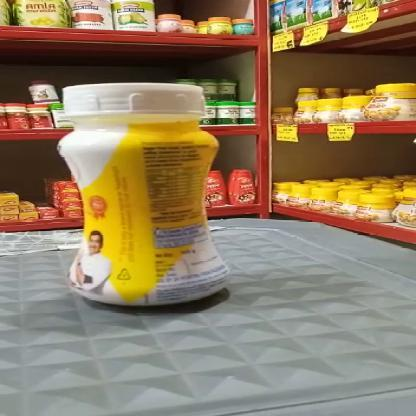SUGAR FREE GOLD POWDER 100GM: (56, 82, 235, 308)
